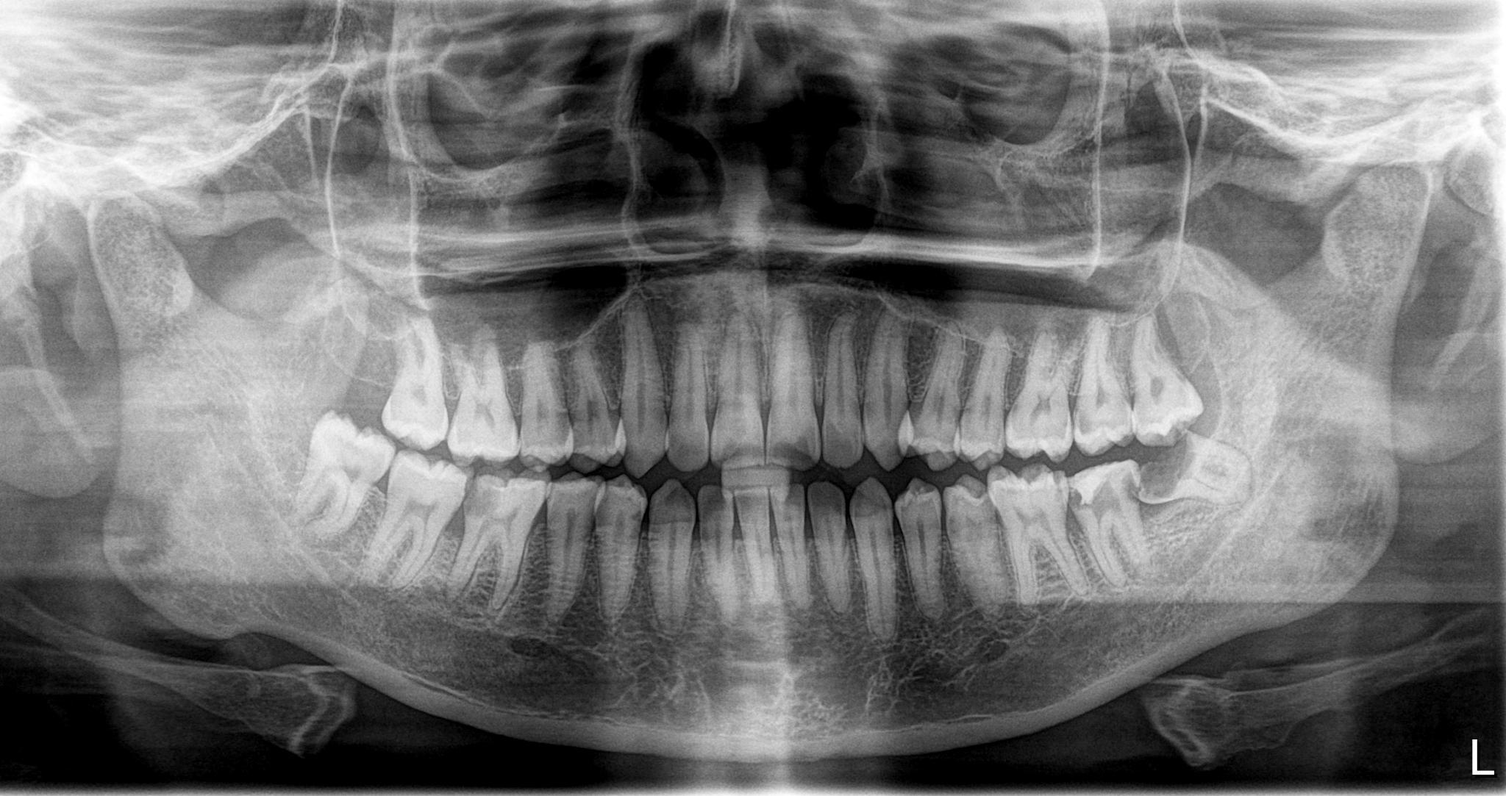Dental Caries: (440, 452, 490, 504), (722, 426, 773, 473), (1143, 448, 1188, 498), (653, 481, 692, 519), (774, 439, 817, 472), (1086, 481, 1121, 517), (695, 485, 727, 519)
Missing Tooth: (347, 309, 396, 420)
